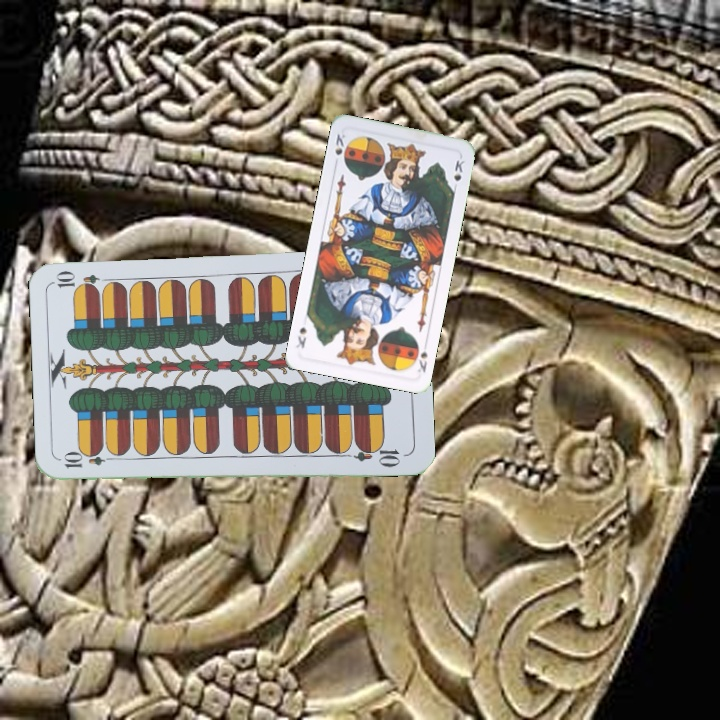E10: (60, 451, 119, 471)
SK: (331, 130, 351, 166), (413, 337, 430, 375)
